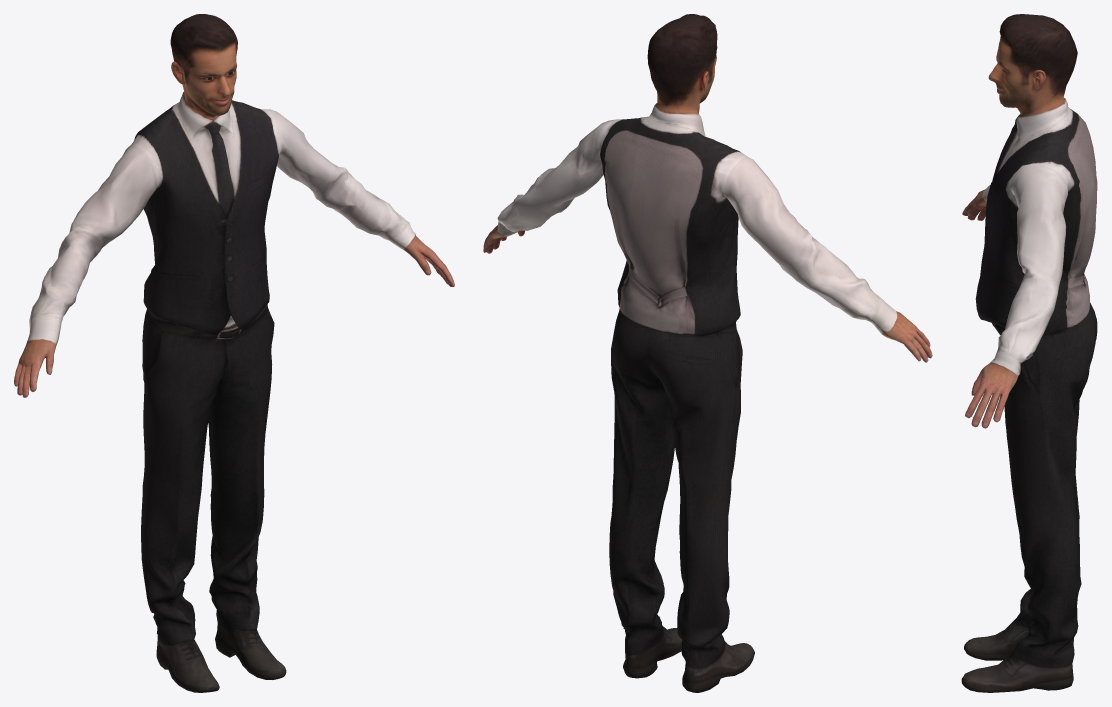
File: insan_eric.glb
3 views of the same model, side by side, from view 1: azimuth 30°, elevation 25°; view 2: azimuth 150°, elevation 25°; view 3: azimuth 270°, elevation 25° (orthographic).
Visible parts, largest first — view 1: Object_6; view 2: Object_6; view 3: Object_6.
Part boxes in pixels (x1,y1,x2,y2): Object_6: [14, 14, 454, 692]; Object_6: [483, 14, 932, 692]; Object_6: [961, 14, 1097, 692].
Bounding box in the file's own units: 1.21 × 1.73 × 0.3264.
1 material, 1 textured.
